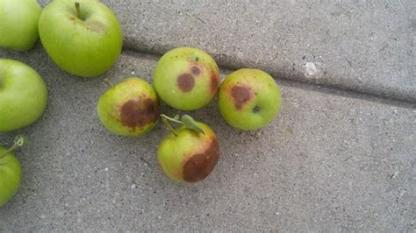defect: (180, 130, 228, 188), (174, 60, 220, 106), (116, 92, 162, 134), (227, 78, 255, 116)
